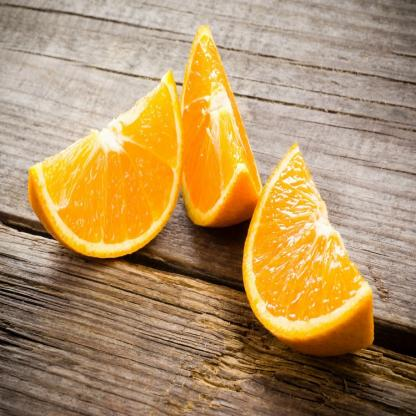---: (21, 60, 186, 272), (235, 132, 382, 357), (165, 21, 266, 241)
